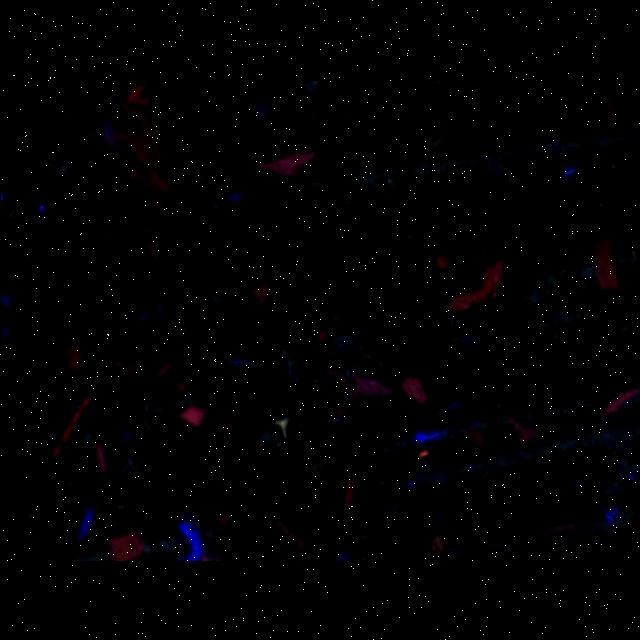Fragment: (446, 258, 506, 312)
